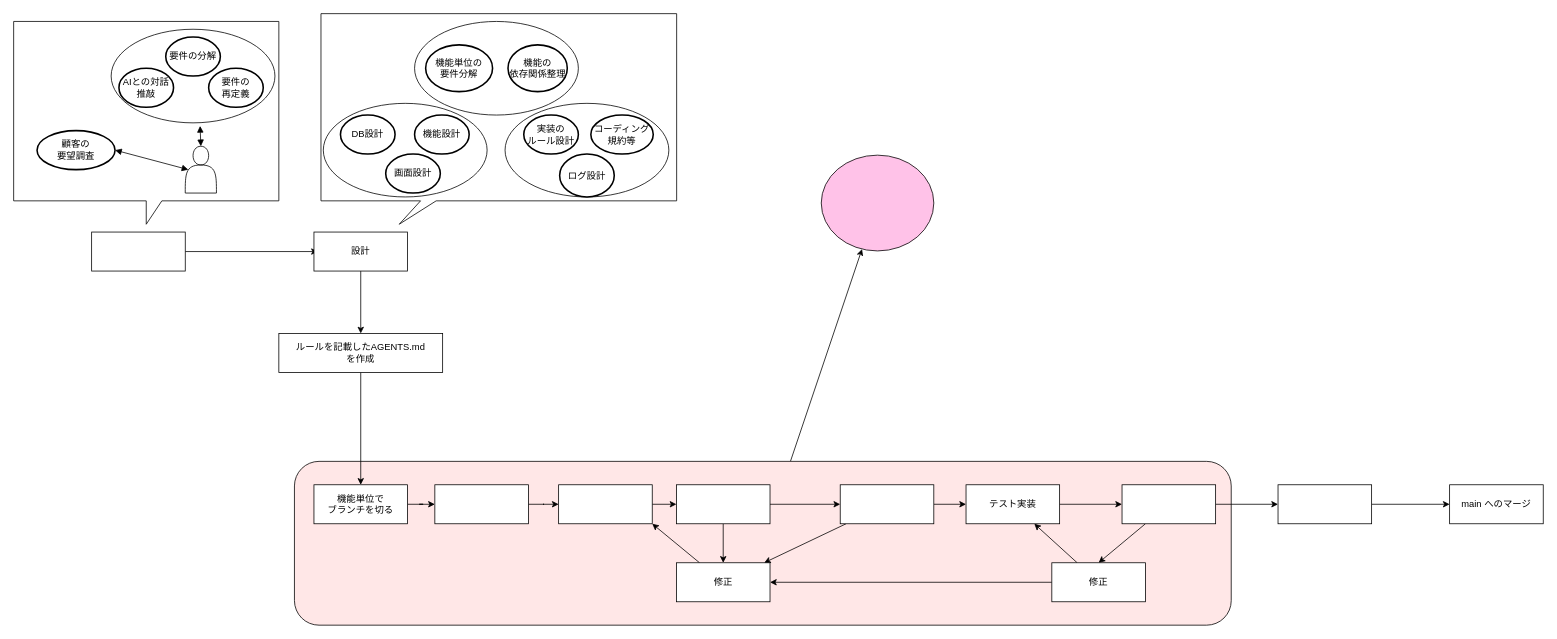
Image size: 1557x639. Some labels were removed from this diagram. The centre of each missing label's shape, as x and y in pixels:
"AIへの説明" belongs at [481,504].
"AIテストレビュー" belongs at [1168,504].
"AI実装レビュー" belongs at [886,504].
"CIテスト" belongs at [723,504].
"dev へのマージ" belongs at [1324,504].
"you" belongs at [200,169].
"この一連の流れを 機能ごとに並列処理 することで開発速度上昇" belongs at [877,202].
"実装" belongs at [605,504].
"要件定義書の作成" belongs at [138,251].
